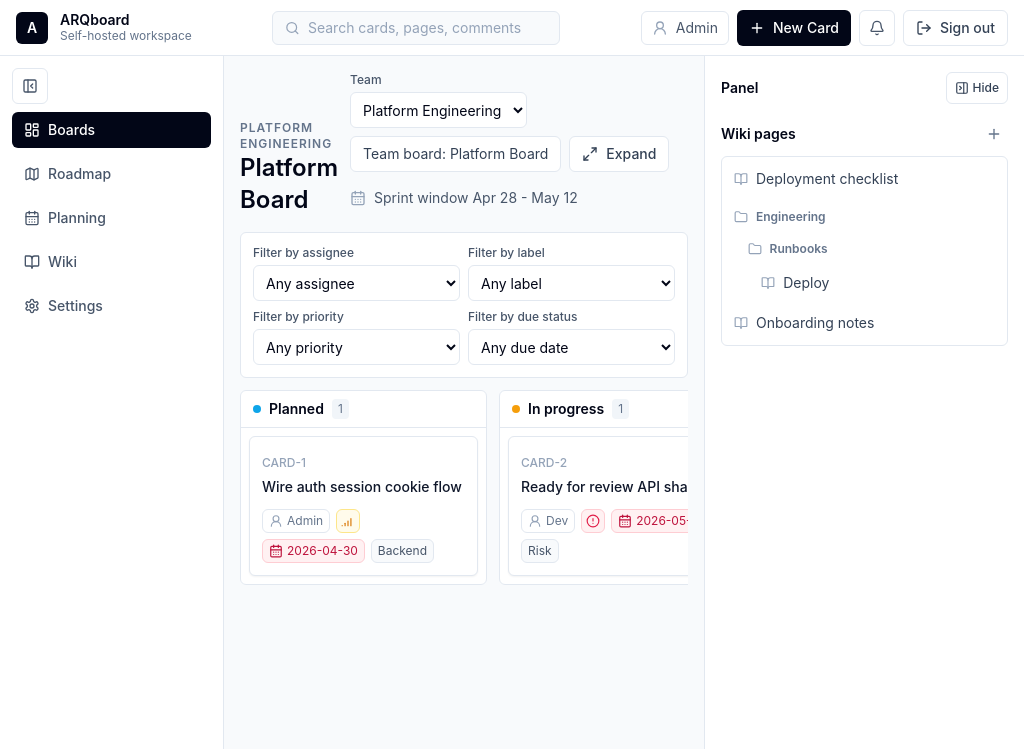
App › edits selected card details through the API
Click the button with aria-label "view card wire auth session cookie flow" at (364, 506), box [250,437,477,575]
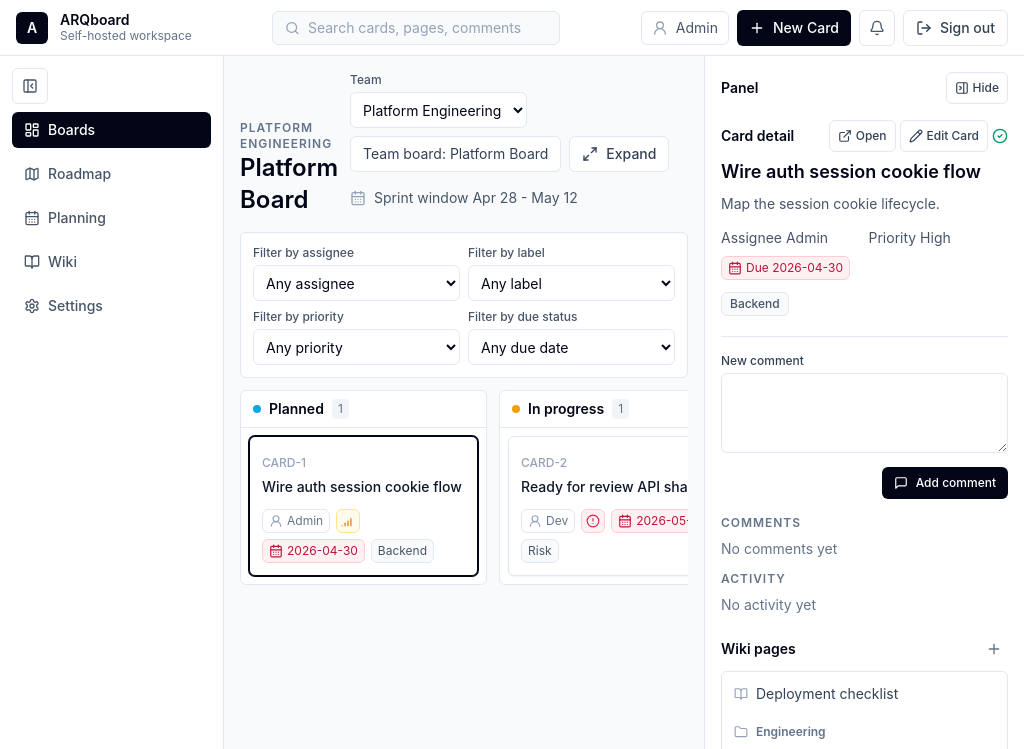
Click the button "Edit Card" at (944, 136), box [900,120,988,152]
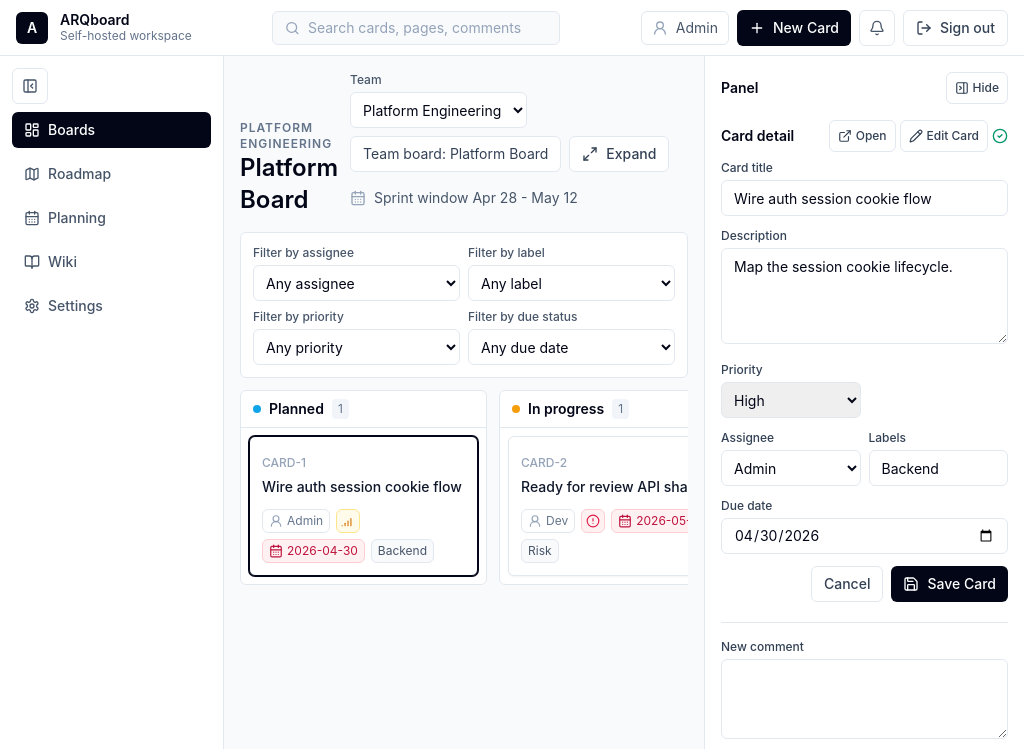
Replace the text in the field labelled "Card title" with "Wire production auth flow" at (864, 198), box [721,180,1008,216]
Replace the text in the text box labelled "Description" with "Document cookie boundaries and refresh behavior." at (864, 296), box [721,248,1008,344]
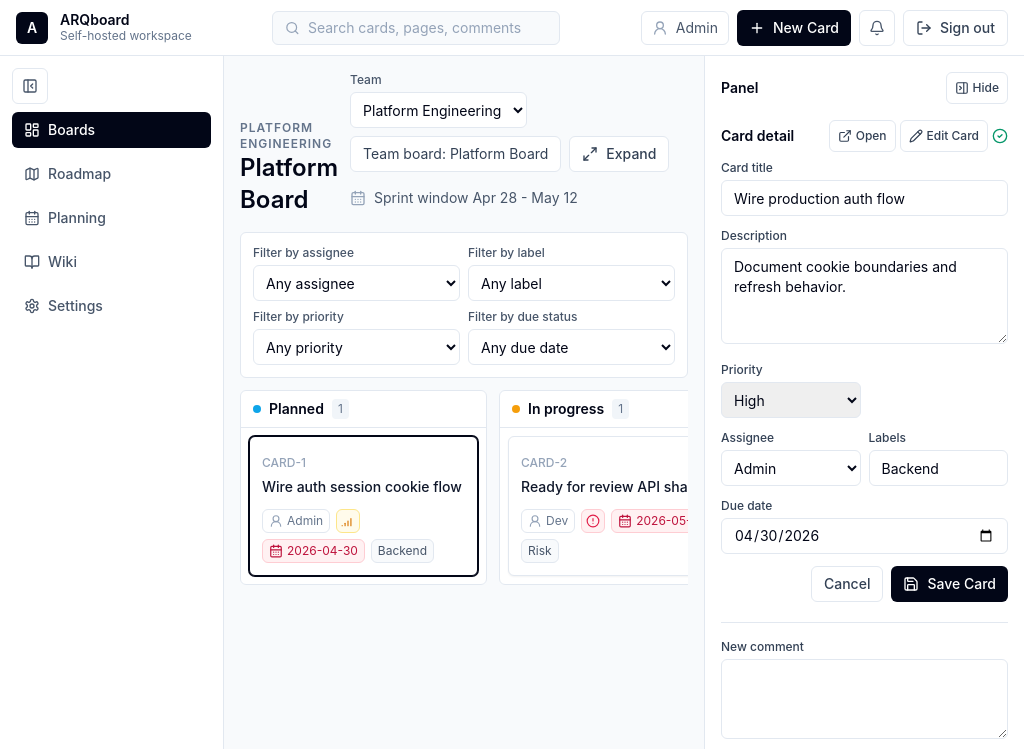
Select "Urgent" in the dropdown labelled "Priority" at (791, 400), box [721,382,860,418]
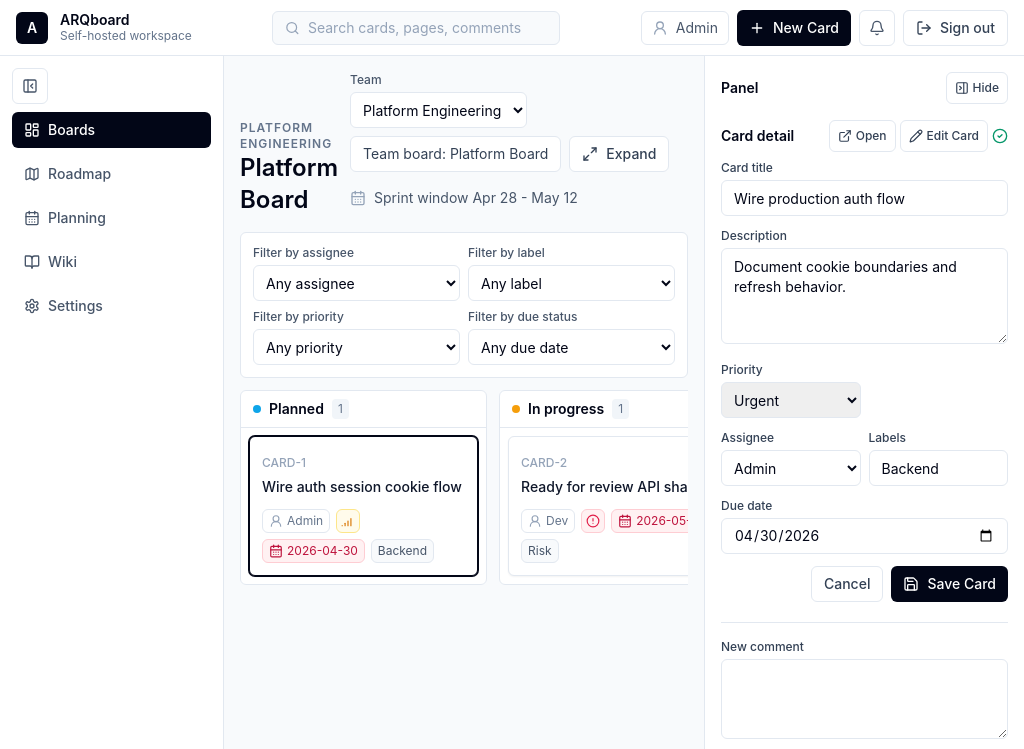
Type "2026-05-09" into the date field labelled "Due date" at (864, 536), box [721,518,1008,554]
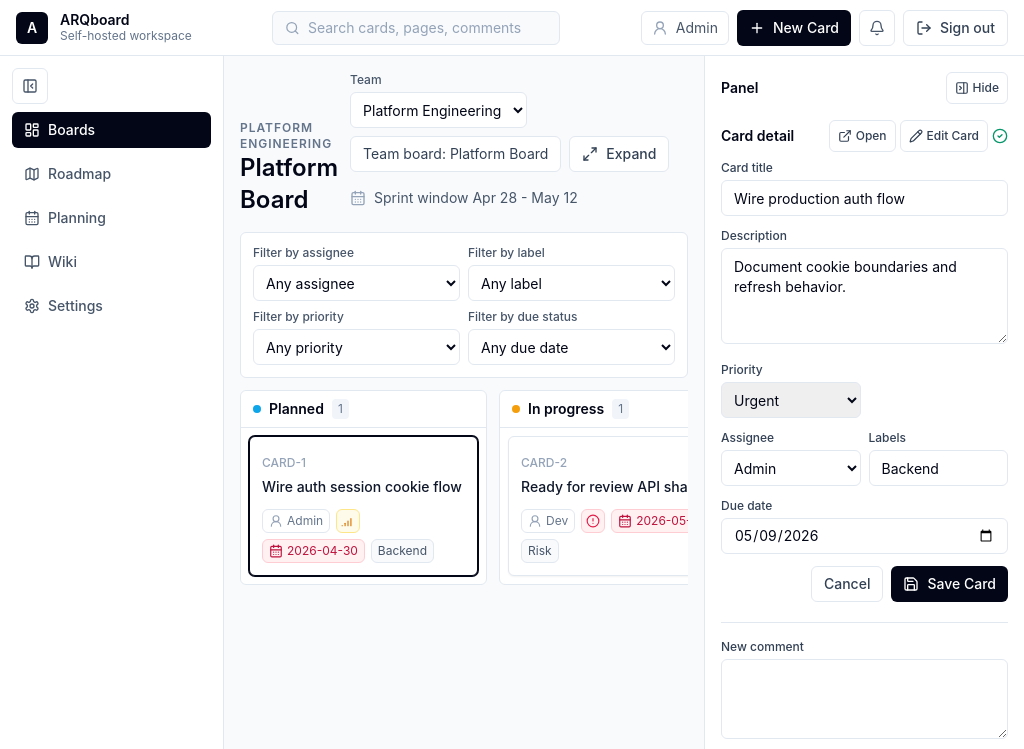
Click the button "Save Card" at (950, 584), box [892,566,1008,602]
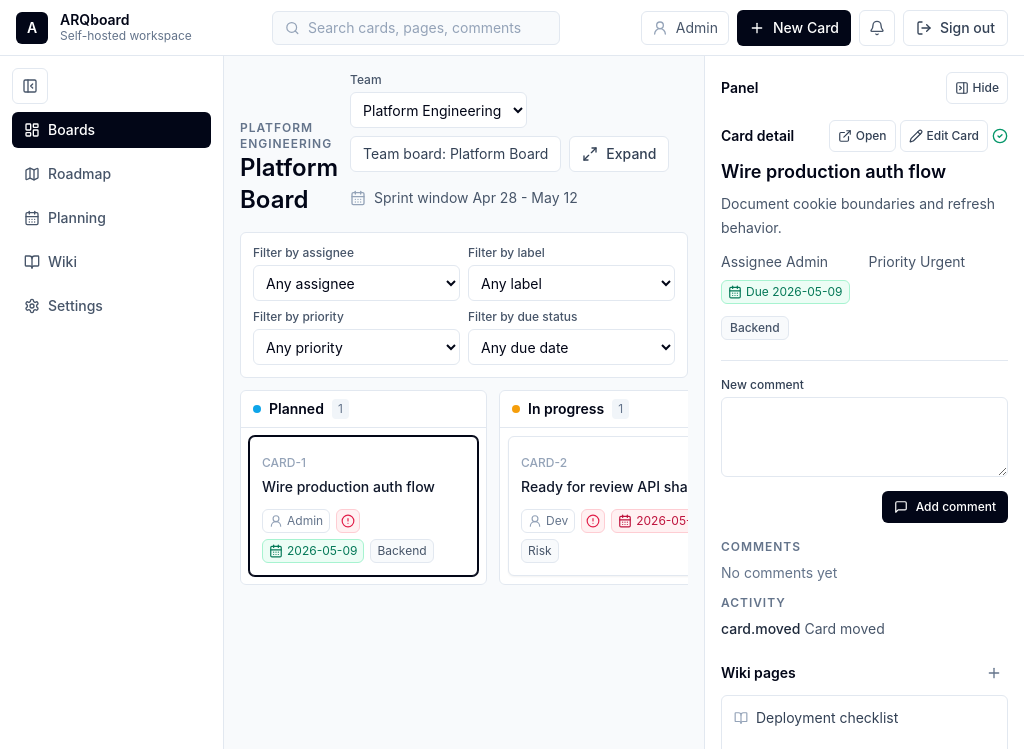
Now the heading "Wire production auth flow" is shown, box [721,161,946,182]
Now the text "Priority Urgent" is shown, box [868,253,965,270]
